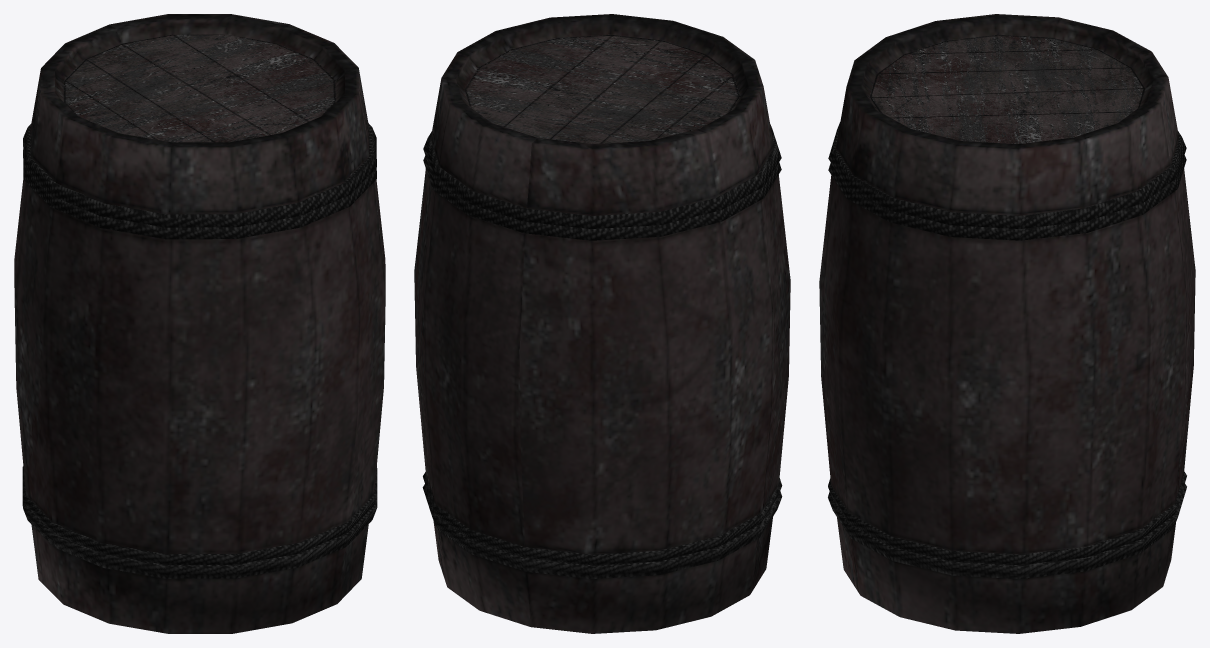
3 views of the same model, side by side, from view 1: azimuth 30°, elevation 25°; view 2: azimuth 150°, elevation 25°; view 3: azimuth 270°, elevation 25° (orthographic).
Visible parts, largest first — view 1: barrel01, Obod_barrel01; view 2: barrel01, Obod_barrel01; view 3: barrel01, Obod_barrel01.
Part boxes in pixels (x1,y1,x2,y2): barrel01: (14, 14, 385, 633); Obod_barrel01: (22, 123, 377, 578); barrel01: (414, 14, 790, 633); Obod_barrel01: (422, 124, 782, 578); barrel01: (819, 14, 1195, 633); Obod_barrel01: (828, 122, 1186, 578).
Bounding box in the file's own units: 1.41 × 2 × 1.41.
2 materials, 2 textured.
